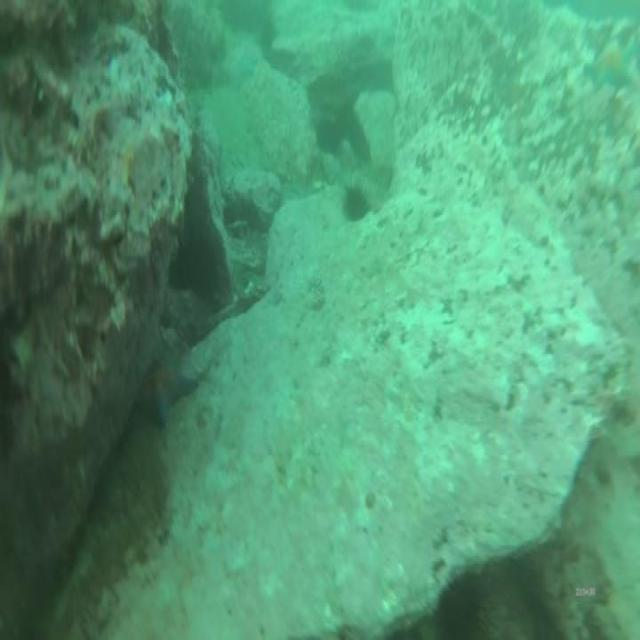echinus: (346, 187, 369, 218)
starfish: (149, 362, 194, 422)
